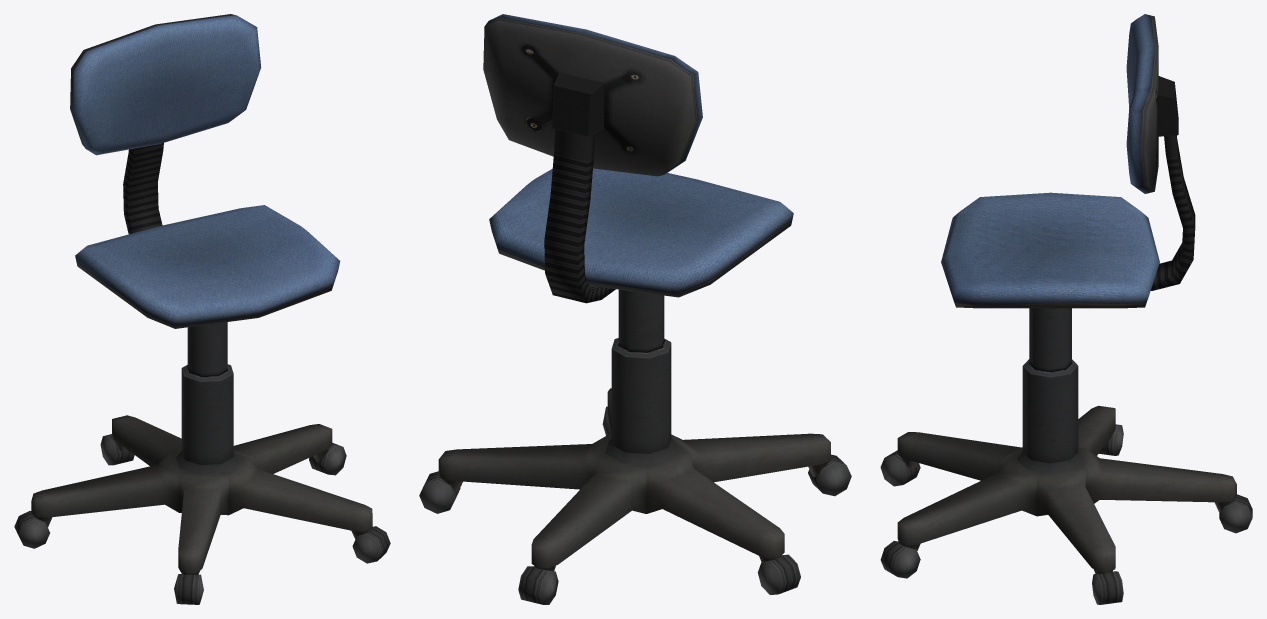
The model's file is office_chair.dae.
3 views of the same model, side by side, from view 1: azimuth 30°, elevation 25°; view 2: azimuth 150°, elevation 25°; view 3: azimuth 270°, elevation 25° (orthographic). The views are drawn at different scales.
Parts seen in each view (by area): view 1: OfficeChair; view 2: OfficeChair; view 3: OfficeChair.
Part boxes in pixels (x1,y1,x2,y2): OfficeChair: (14,14,390,604); OfficeChair: (419,14,851,604); OfficeChair: (880,14,1252,604).
Size of the model in its own units: 59.53 by 56.61 by 81.16.
